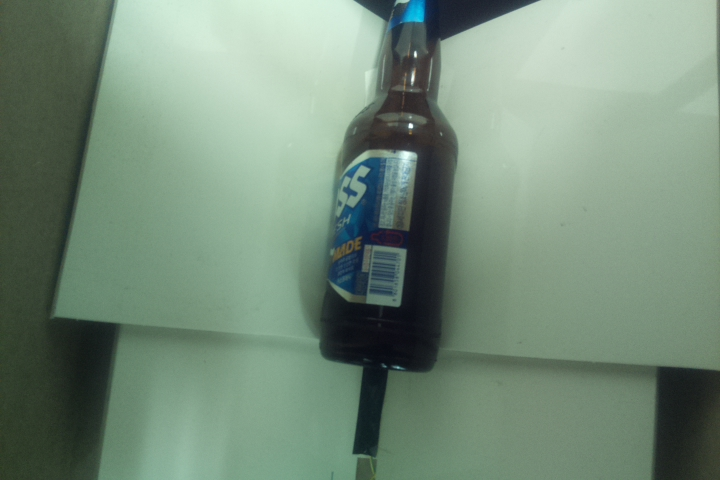makju: (317, 1, 464, 377)
